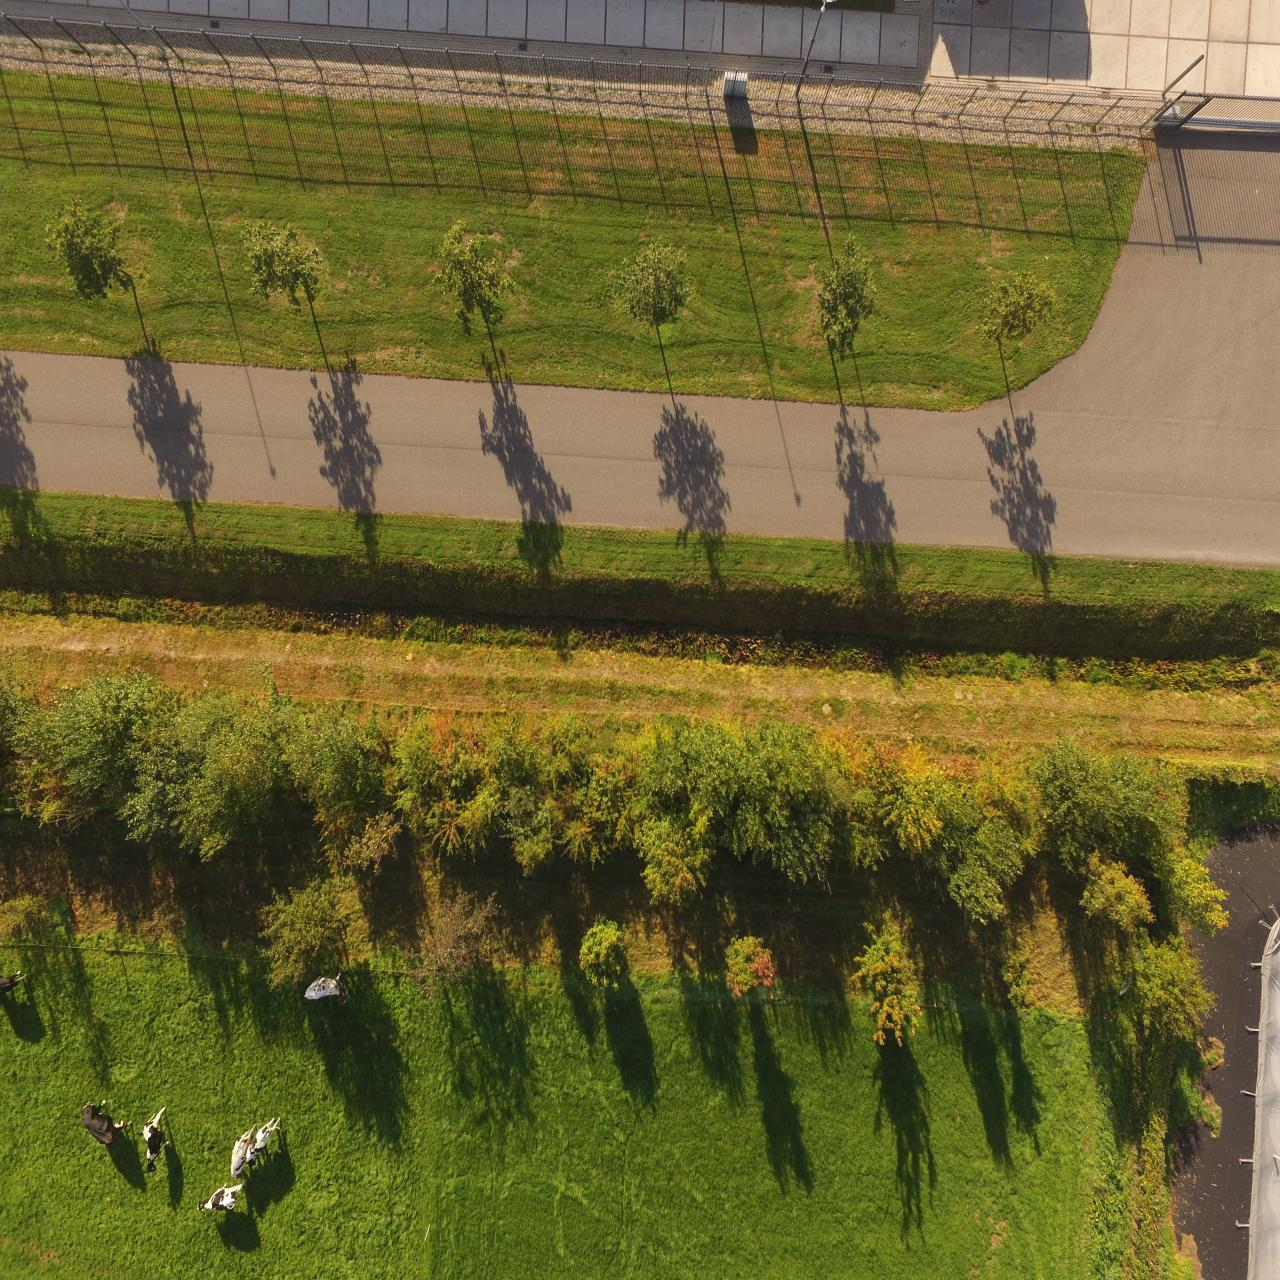cow: (77, 1099, 135, 1151), (142, 1101, 173, 1177), (253, 1118, 288, 1169), (203, 1178, 244, 1220), (229, 1118, 256, 1176), (304, 971, 342, 1008)
